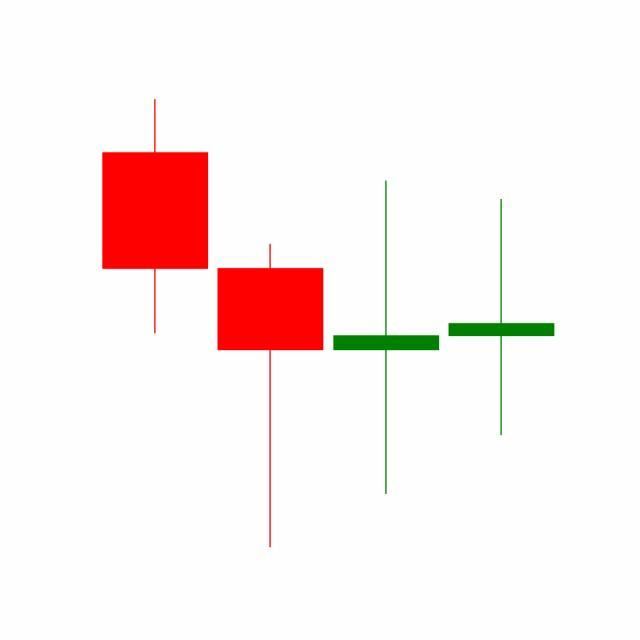Spinning Top: (444, 196, 560, 439)
